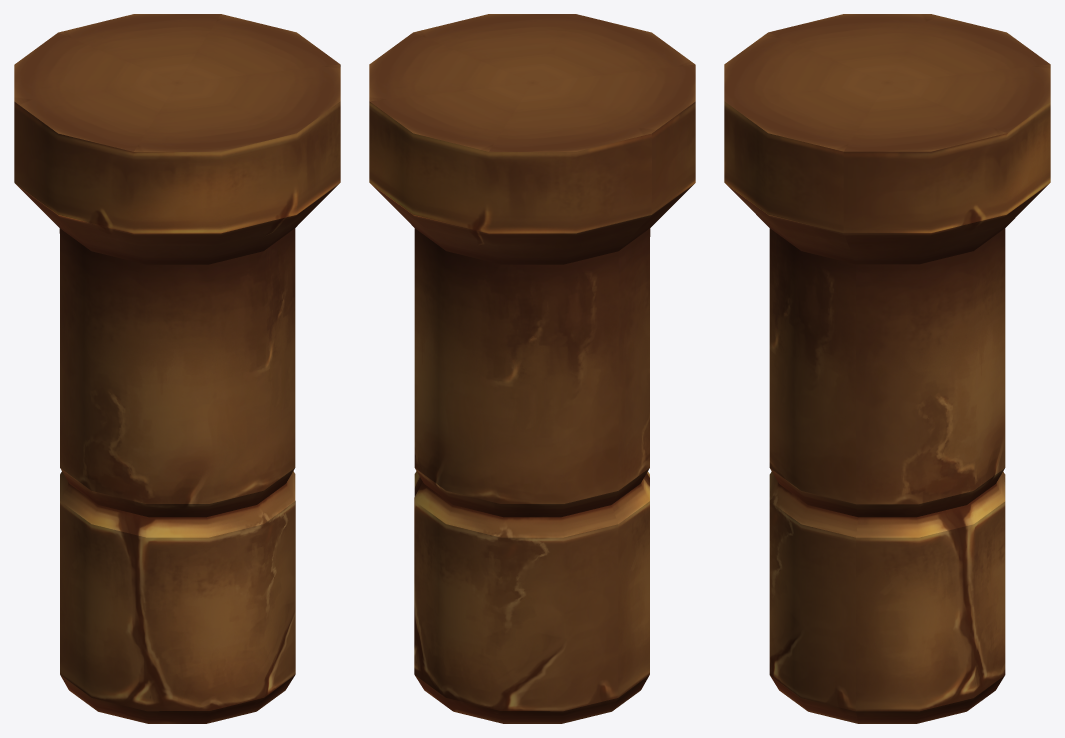
Rendered from 1014_Gidoong_jogak_01.FBX.
The picture shows the model from 3 angles, left to right: view 1: azimuth 30°, elevation 25°; view 2: azimuth 150°, elevation 25°; view 3: azimuth 270°, elevation 25°; orthographic projection.
Visible parts, largest first — view 1: Object002; view 2: Object002; view 3: Object002.
Part boxes in pixels (<box>): Object002: <box>14,14,340,723</box>; Object002: <box>369,14,695,723</box>; Object002: <box>724,14,1050,723</box>.
Size of the model in its own units: 88.32 by 178 by 88.3.
1 material, 1 textured.
